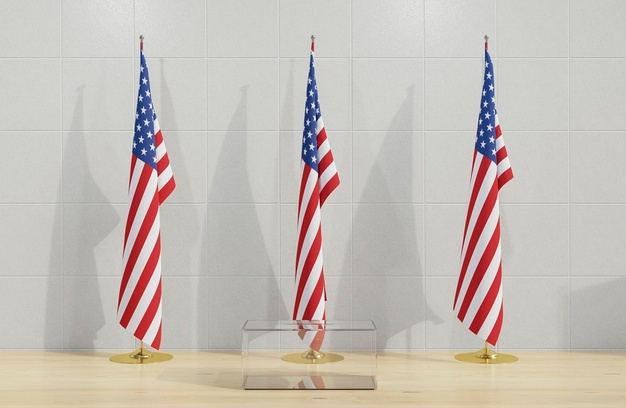America flag: (284, 56, 343, 356), (117, 51, 172, 353), (464, 54, 519, 349)
